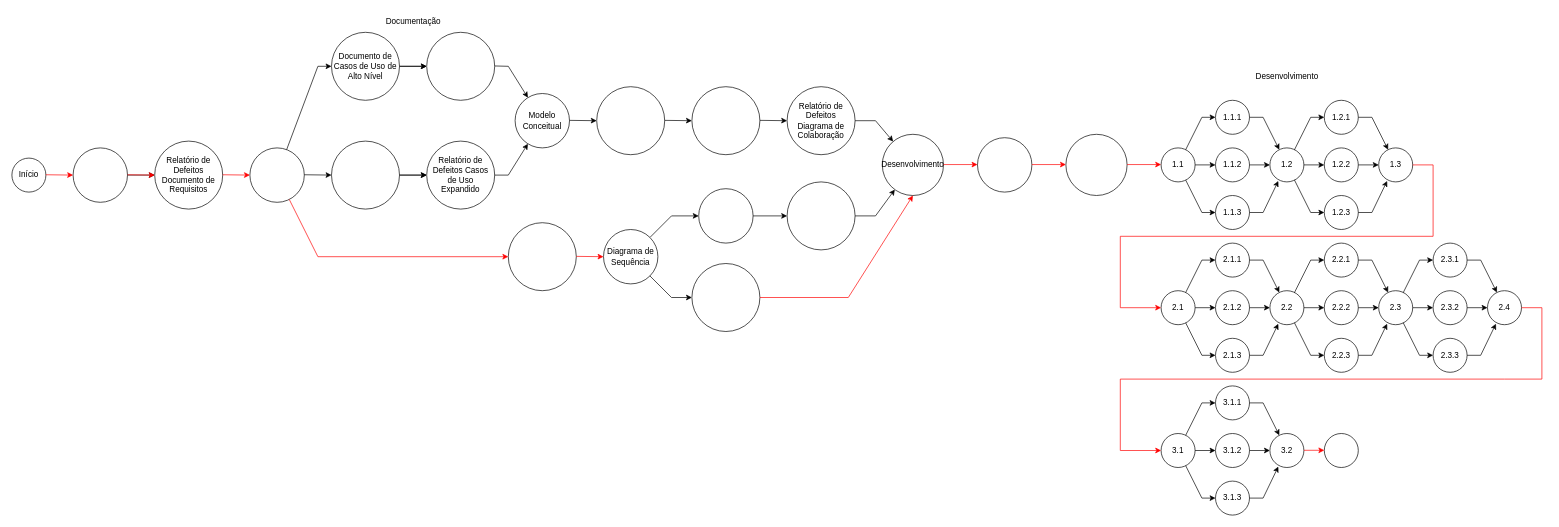
Some shapes in this 1559 by 527 pixel diagram are drawn without their labels. Each missing label, with the centre of its shape:
"Diagrama de Casos de Uso" belongs at [276,174].
"Diagrama de Classes" belongs at [725,215].
"Diagrama de Colaboração" belongs at [725,120].
"Documento de Casos de Uso Expandido" belongs at [365,174].
"Documento de Requisitos" belongs at [100,174].
"Fim" belongs at [1341,450].
"Relatório de Defeitos Casos de Uso" belongs at [542,256].
"Relatório de Defeitos Casos de Uso de Alto Nível" belongs at [460,66].
"Relatório de Defeitos Diagrama de Classes" belongs at [820,215].
"Relatório de Defeitos Diagrama de Sequência" belongs at [725,297].
"Relatório de Defeitos Modelo Conceitual" belongs at [630,120].
"Testes de Integração" belongs at [1096,165].
"Testes Unitários" belongs at [1004,164].
